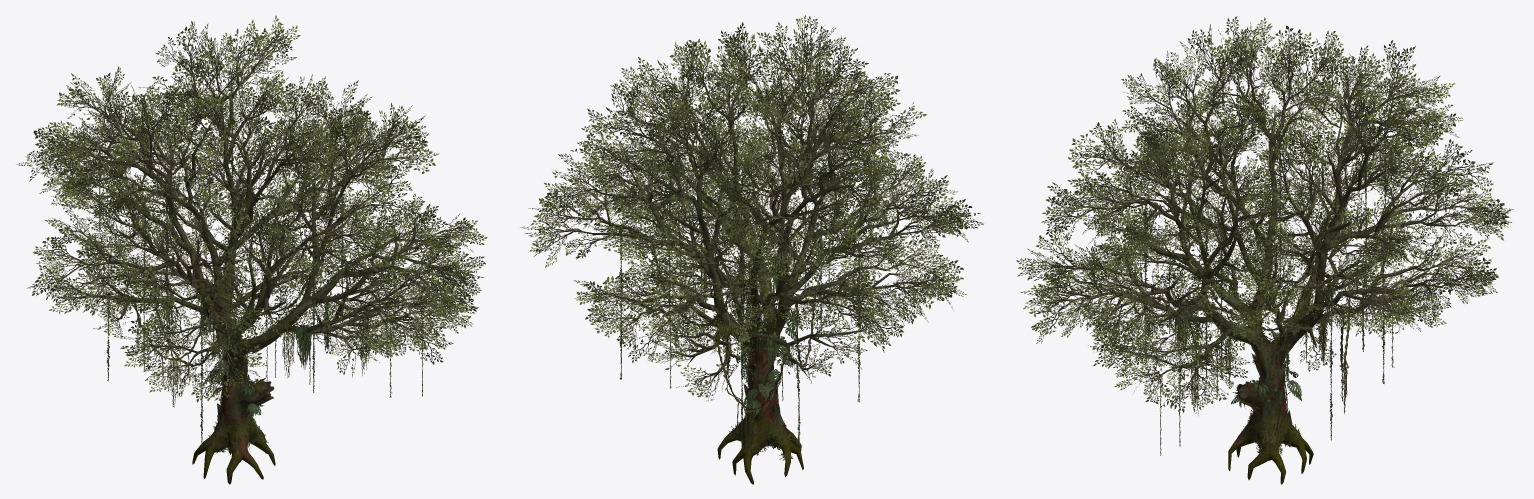
Rendered from tree_gn.glb.
The picture shows the model from 3 angles, left to right: view 1: azimuth 30°, elevation 25°; view 2: azimuth 150°, elevation 25°; view 3: azimuth 270°, elevation 25°; orthographic projection. The views are drawn at different scales.
Visible parts, largest first — view 1: TreeGen; view 2: TreeGen; view 3: TreeGen.
Boxes of the visible parts, x1,y1,x2,y2 form: TreeGen: [16, 15, 487, 484]; TreeGen: [520, 15, 983, 484]; TreeGen: [1016, 16, 1514, 484].
Bounding box in the file's own units: 21.13 × 22.48 × 24.06.
6 materials, 6 textured.
